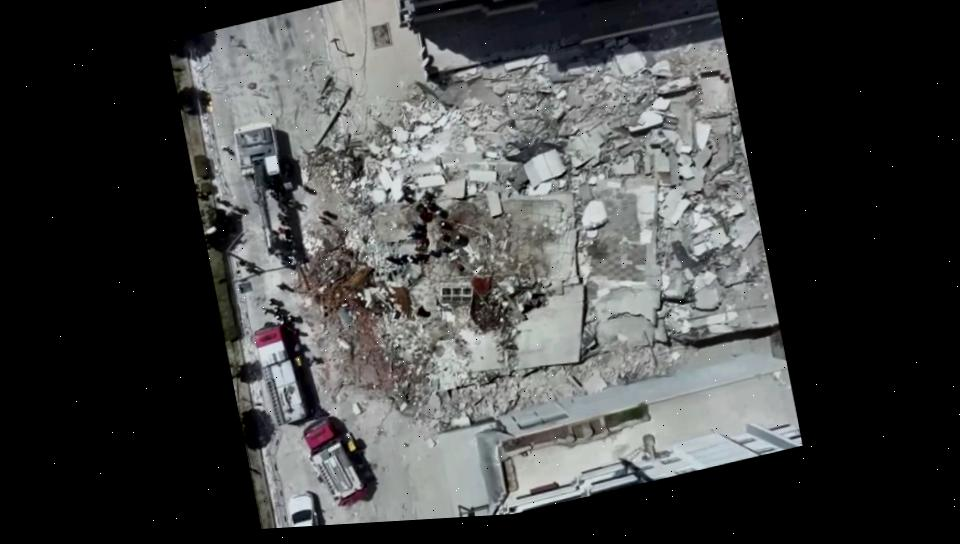kapali: (199, 70, 406, 510)
